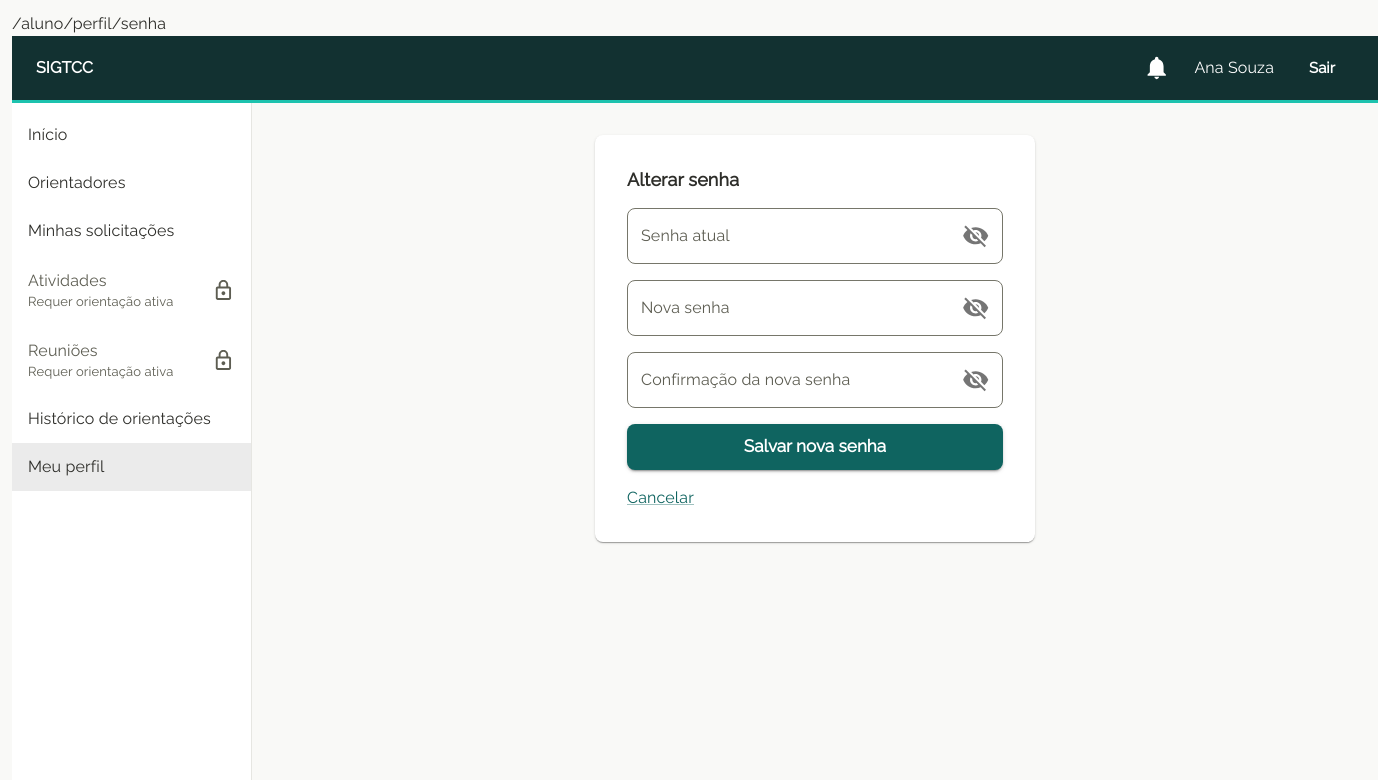
Test: ChangePasswordPage: o formulário › com os campos vazios, mostra um erro em cada um e não envia nada
The width and height of the screenshot is (1378, 780).
Expected: the heading "Alterar senha" is shown, [627,169,739,190]
Click the button "Salvar nova senha": (815,447) [627,424,1003,470]
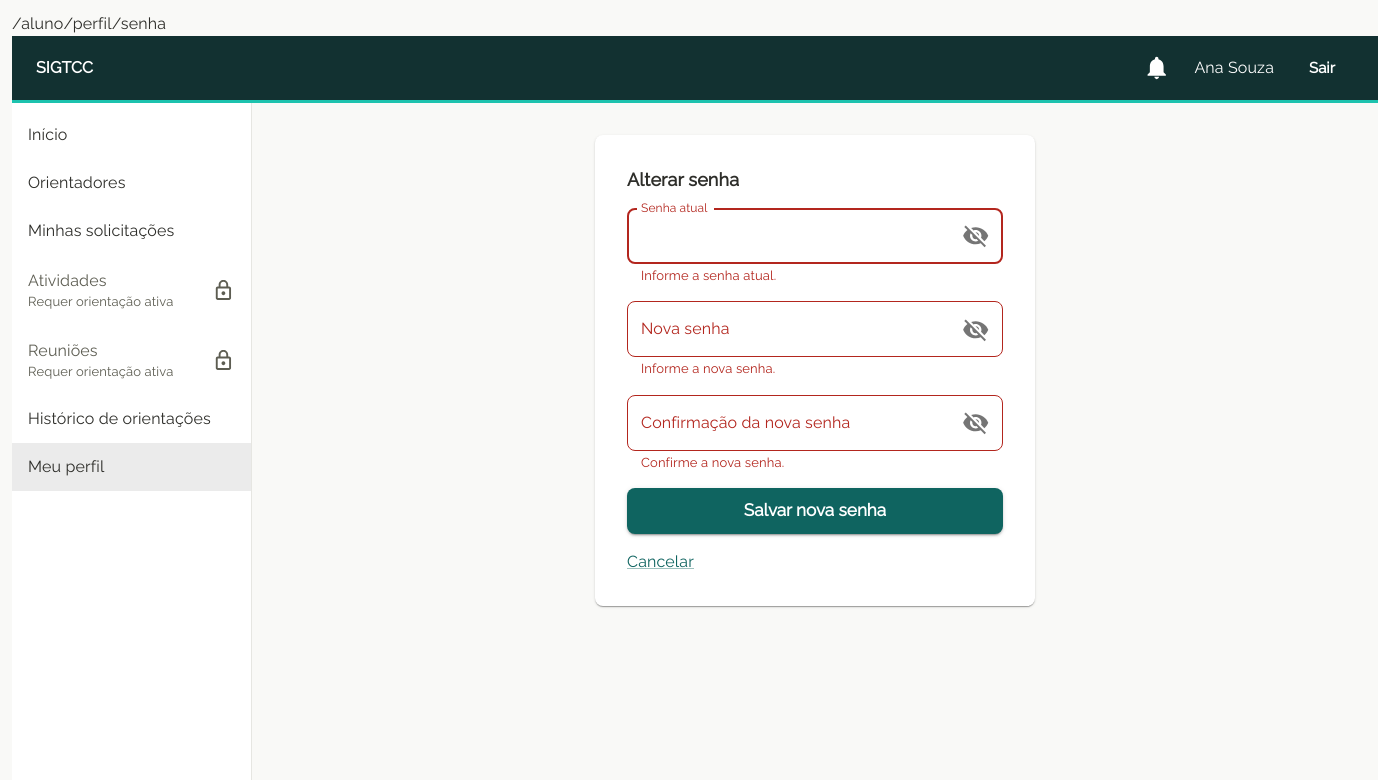
Result: the text "Informe a senha atual." is shown at [641,268,776,283]
Result: the text "Informe a nova senha." is shown at [641,361,775,376]
Result: the text "Confirme a nova senha." is shown at [641,455,784,470]
